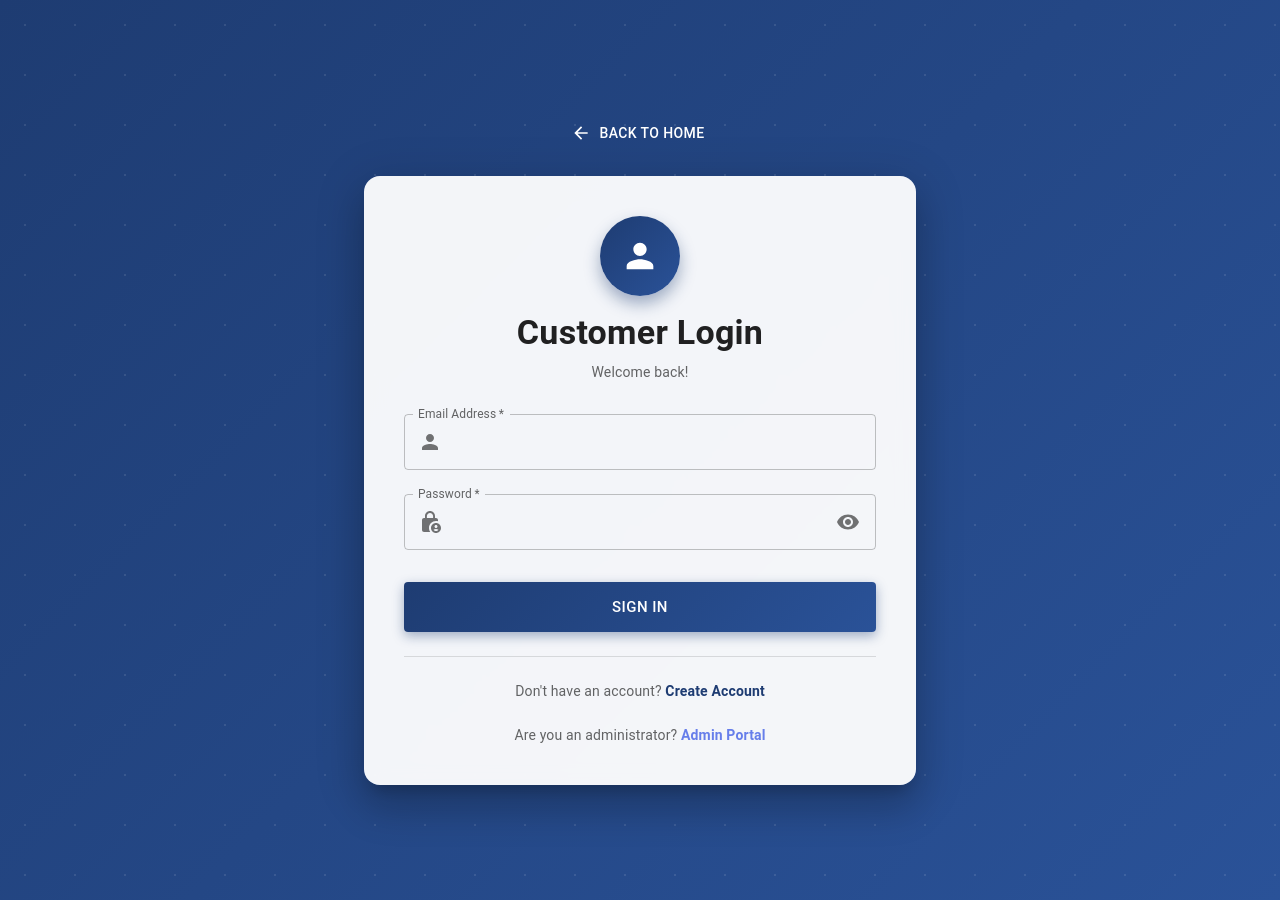
it: LoginPage interactions › shows error on bad credentials
Note: Fill inputs
Type "a@b.com" into the field labelled "Email Address *" at (663, 442), box [450,414,876,470]
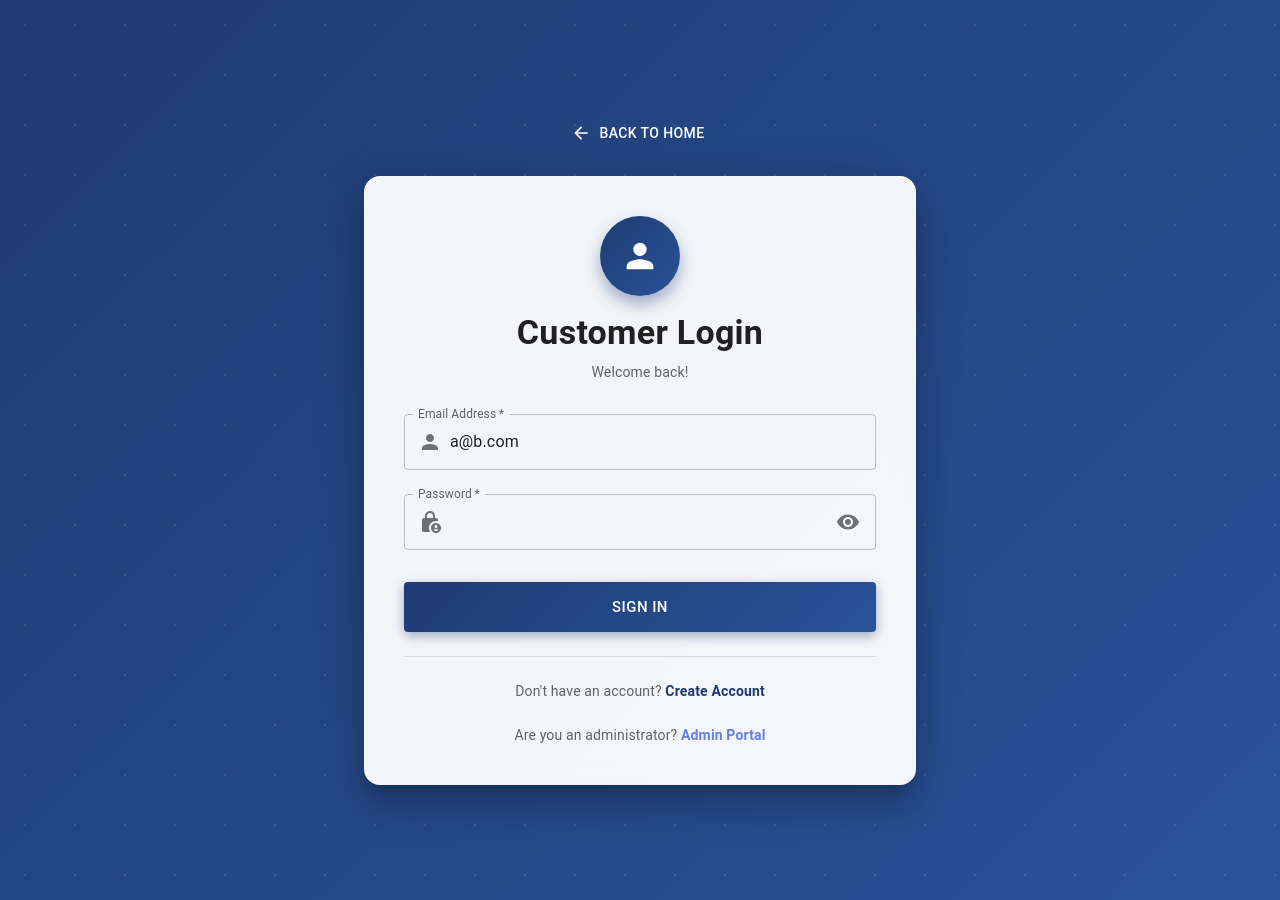
Type "secret" into the password field labelled "Password *" at (638, 522), box [450,494,826,550]
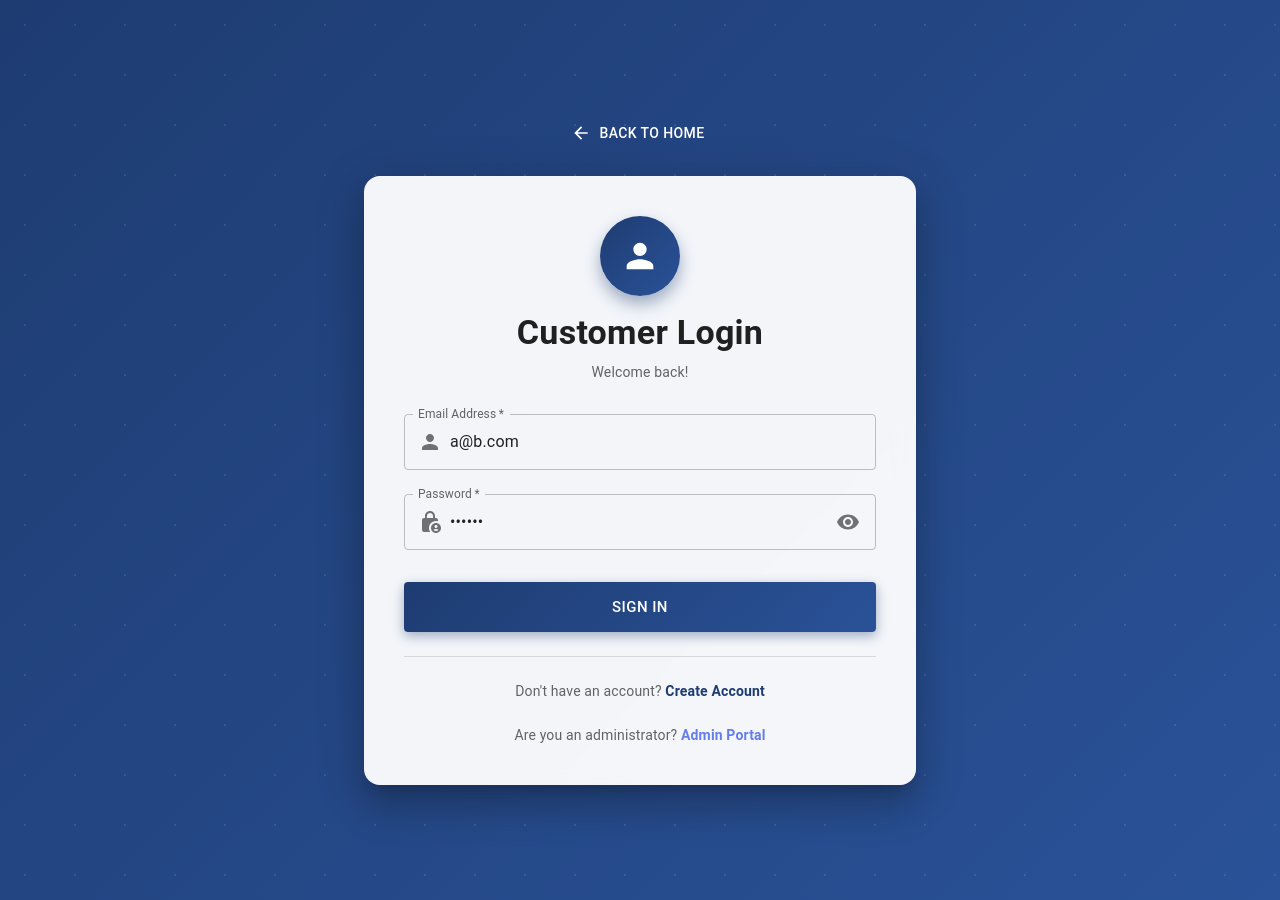
Click the button "Sign In" at (640, 607), box [404,582,876,632]
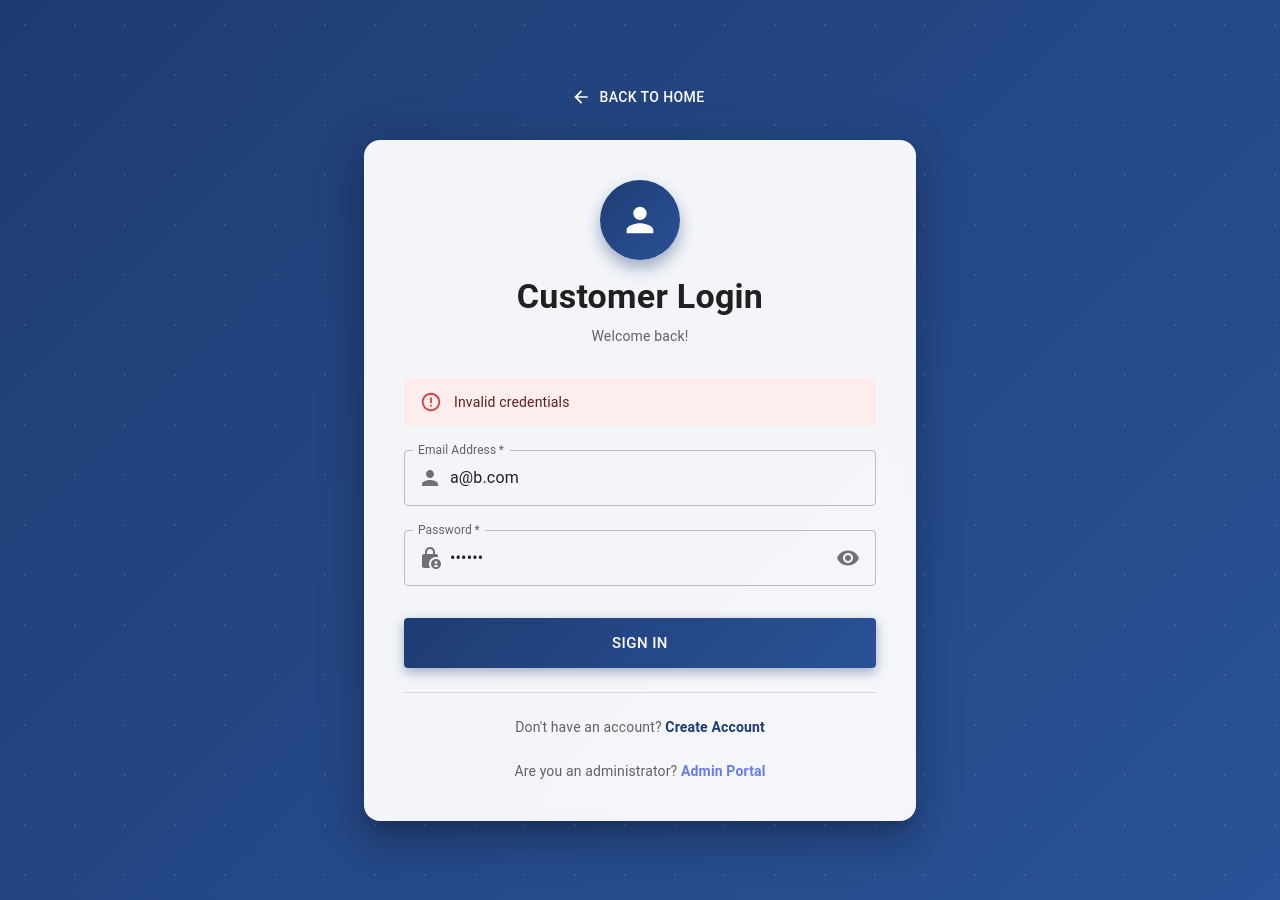
Now the text "Invalid credentials" is shown, box [454,394,570,410]
